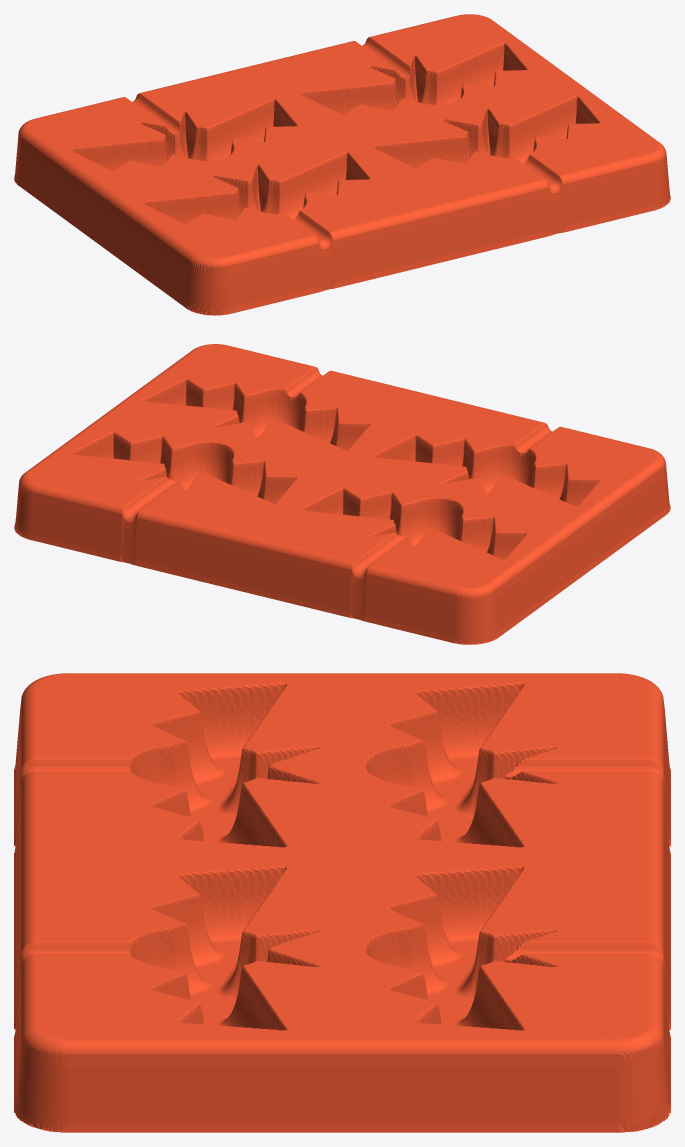
File: mold.glb
3 views of the same model, one above another, from view 1: azimuth 30°, elevation 25°; view 2: azimuth 150°, elevation 25°; view 3: azimuth 270°, elevation 25° (orthographic). The views are drawn at different scales.
Parts seen in each view (by area): view 1: geometry_0; view 2: geometry_0; view 3: geometry_0.
Part boxes in pixels (x1,y1,x2,y2): geometry_0: (14, 14, 670, 315); geometry_0: (14, 344, 670, 644); geometry_0: (14, 673, 670, 1132).
Size of the model in its own units: 0.1497 by 0.0155 by 0.1086.
